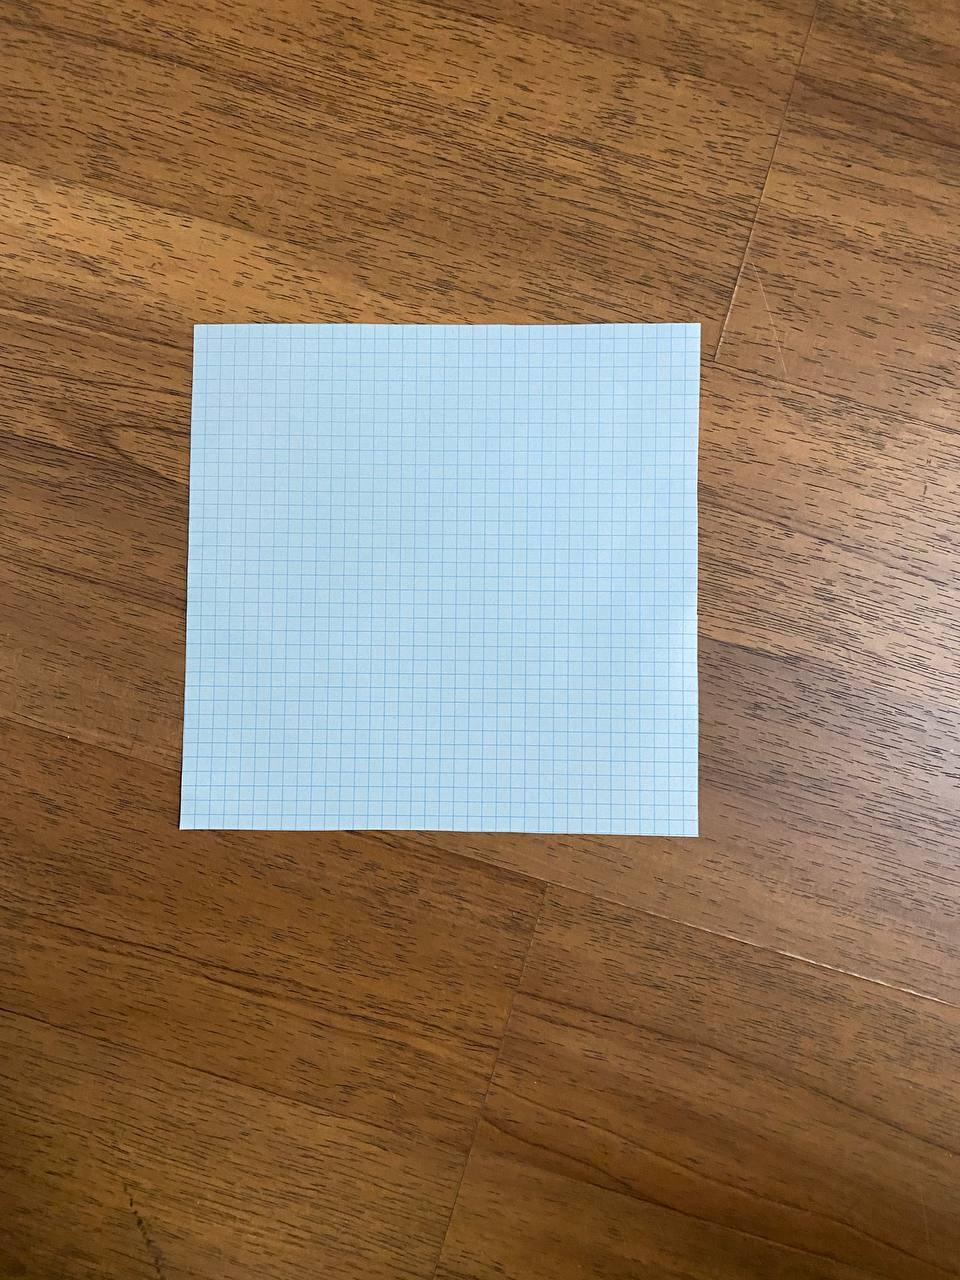grid: (168, 312, 712, 854)
